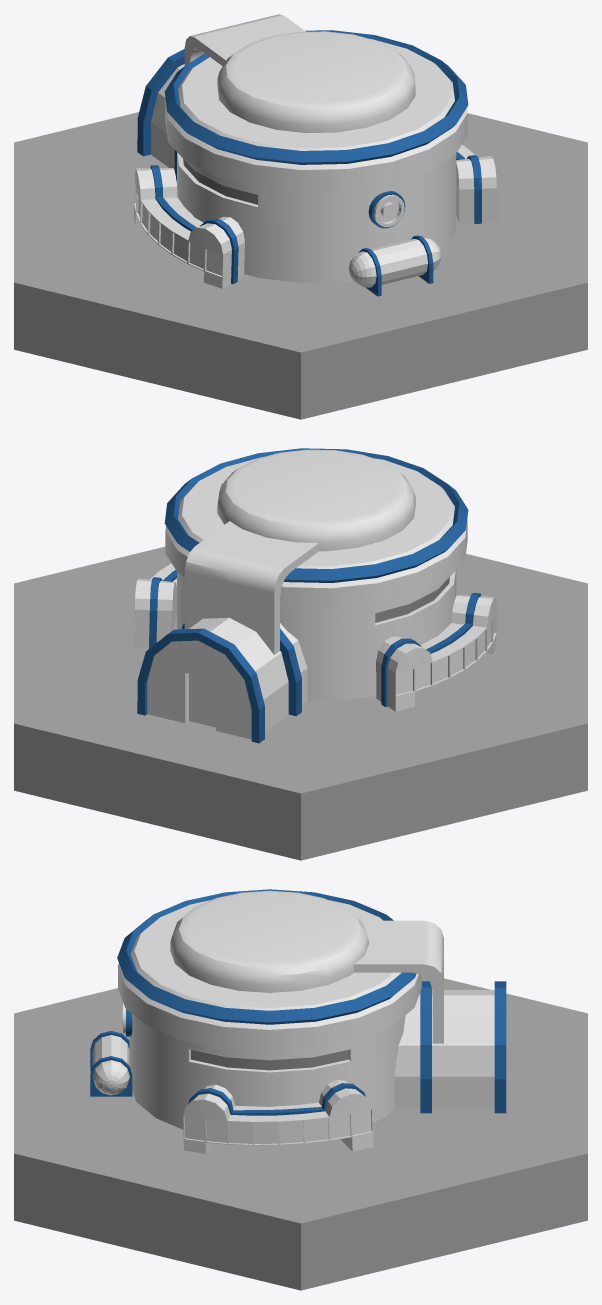
File: House_1.fbx
3 renders of one model, top to bottom at view 1: azimuth 30°, elevation 25°; view 2: azimuth 150°, elevation 25°; view 3: azimuth 270°, elevation 25°, orthographic.
Parts seen in each view (by area): view 1: pCylinder2, polySurface105; view 2: pCylinder2, polySurface105; view 3: pCylinder2, polySurface105.
Part boxes in pixels (left/top/right/bottom): pCylinder2: left=14, top=112, right=587, bottom=419; polySurface105: left=133, top=14, right=496, bottom=296; pCylinder2: left=14, top=546, right=587, bottom=860; polySurface105: left=133, top=448, right=496, bottom=743; pCylinder2: left=14, top=975, right=587, bottom=1290; polySurface105: left=90, top=889, right=506, bottom=1153.
Size of the model in its own units: 14.65 by 5.45 by 12.69.
